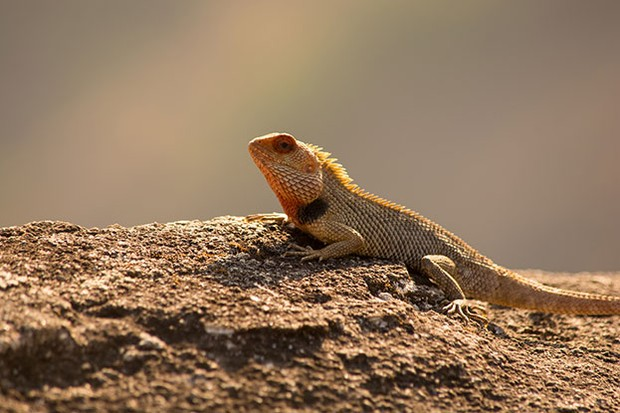bearded: (247, 127, 620, 332)
